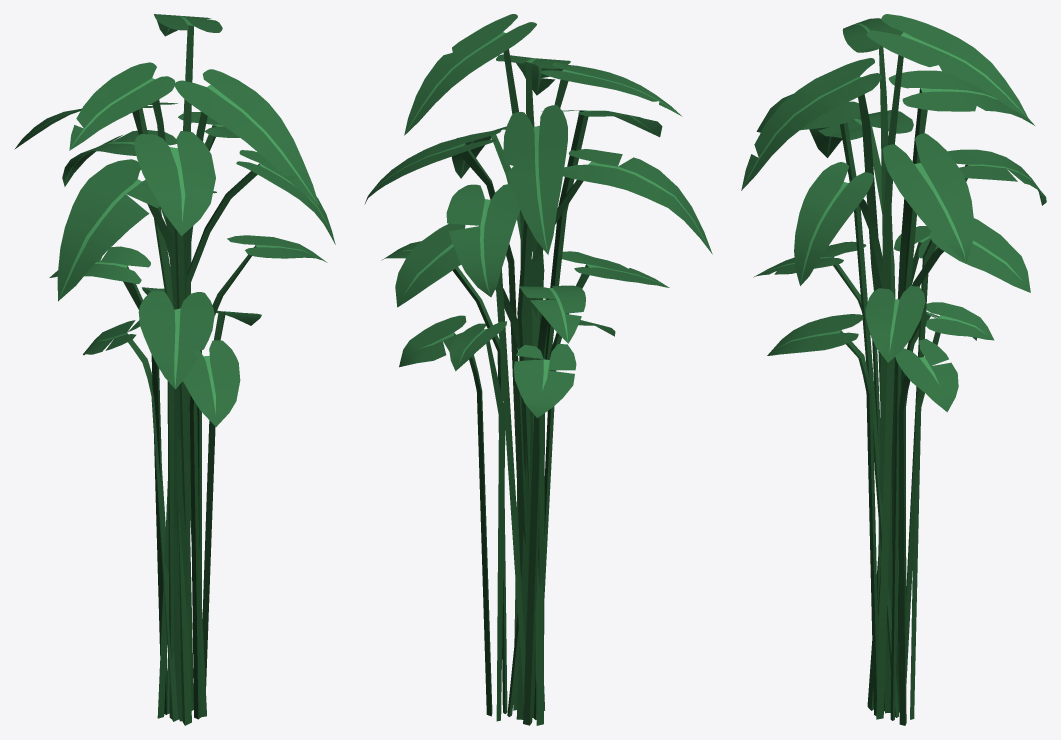
The model's file is plant_monstera_D_pot.fbx.
3 views of the same model, side by side, from view 1: azimuth 30°, elevation 25°; view 2: azimuth 150°, elevation 25°; view 3: azimuth 270°, elevation 25° (orthographic).
Visible parts, largest first — view 1: plant_monstera_D_leaf_42, plant_monstera_D_leaf_41, plant_monstera_D_leaf_39, plant_monstera_D_leaf_49, plant_monstera_D_leaf_38, plant_monstera_D_leaf_50, plant_monstera_D_leaf_43, plant_monstera_D_leaf_48, plant_monstera_D_leaf_40, plant_monstera_D_leaf_53, plant_monstera_D_leaf_45, plant_monstera_D_leaf_52 (+4 smaller); view 2: plant_monstera_D_leaf_40, plant_monstera_D_leaf_47, plant_monstera_D_leaf_48, plant_monstera_D_leaf_42, plant_monstera_D_leaf_01, plant_monstera_D_leaf_53, plant_monstera_D_leaf_44, plant_monstera_D_leaf_52, plant_monstera_D_leaf_46, plant_monstera_D_leaf_51, plant_monstera_D_leaf_41, plant_monstera_D_leaf_39 (+4 smaller); view 3: plant_monstera_D_leaf_01, plant_monstera_D_leaf_44, plant_monstera_D_leaf_39, plant_monstera_D_leaf_43, plant_monstera_D_leaf_52, plant_monstera_D_leaf_45, plant_monstera_D_leaf_42, plant_monstera_D_leaf_40, plant_monstera_D_leaf_50, plant_monstera_D_leaf_41, plant_monstera_D_leaf_51, plant_monstera_D_leaf_47 (+4 smaller).
Boxes of the visible parts, x1=… form: plant_monstera_D_leaf_42: x1=57, y1=159, x2=206, y2=717; plant_monstera_D_leaf_41: x1=134, y1=131, x2=215, y2=710; plant_monstera_D_leaf_39: x1=174, y1=69, x2=318, y2=529; plant_monstera_D_leaf_49: x1=138, y1=290, x2=214, y2=718; plant_monstera_D_leaf_38: x1=69, y1=62, x2=188, y2=721; plant_monstera_D_leaf_50: x1=183, y1=340, x2=240, y2=719; plant_monstera_D_leaf_43: x1=157, y1=150, x2=335, y2=718; plant_monstera_D_leaf_48: x1=49, y1=246, x2=167, y2=714; plant_monstera_D_leaf_40: x1=14, y1=102, x2=191, y2=725; plant_monstera_D_leaf_53: x1=83, y1=320, x2=178, y2=721; plant_monstera_D_leaf_45: x1=197, y1=235, x2=327, y2=604; plant_monstera_D_leaf_52: x1=202, y1=310, x2=261, y2=688; plant_monstera_D_leaf_40: x1=503, y1=105, x2=567, y2=710; plant_monstera_D_leaf_47: x1=446, y1=184, x2=525, y2=705; plant_monstera_D_leaf_48: x1=519, y1=285, x2=585, y2=725; plant_monstera_D_leaf_42: x1=513, y1=149, x2=712, y2=710; plant_monstera_D_leaf_01: x1=404, y1=14, x2=536, y2=583; plant_monstera_D_leaf_53: x1=514, y1=344, x2=576, y2=702; plant_monstera_D_leaf_44: x1=364, y1=130, x2=525, y2=579; plant_monstera_D_leaf_52: x1=399, y1=315, x2=492, y2=716; plant_monstera_D_leaf_46: x1=395, y1=223, x2=535, y2=717; plant_monstera_D_leaf_51: x1=449, y1=321, x2=506, y2=721; plant_monstera_D_leaf_41: x1=507, y1=110, x2=662, y2=716; plant_monstera_D_leaf_39: x1=496, y1=54, x2=570, y2=719; plant_monstera_D_leaf_01: x1=866, y1=14, x2=1027, y2=713; plant_monstera_D_leaf_44: x1=883, y1=133, x2=974, y2=711; plant_monstera_D_leaf_39: x1=741, y1=58, x2=899, y2=712; plant_monstera_D_leaf_43: x1=794, y1=162, x2=898, y2=655; plant_monstera_D_leaf_52: x1=895, y1=339, x2=958, y2=725; plant_monstera_D_leaf_45: x1=865, y1=286, x2=925, y2=720; plant_monstera_D_leaf_42: x1=809, y1=110, x2=913, y2=719; plant_monstera_D_leaf_40: x1=867, y1=70, x2=1034, y2=710; plant_monstera_D_leaf_50: x1=767, y1=314, x2=878, y2=715; plant_monstera_D_leaf_41: x1=756, y1=94, x2=898, y2=717; plant_monstera_D_leaf_51: x1=910, y1=302, x2=994, y2=719; plant_monstera_D_leaf_47: x1=906, y1=149, x2=1046, y2=683.
Size of the model in its own units: 140 by 308 by 123.
